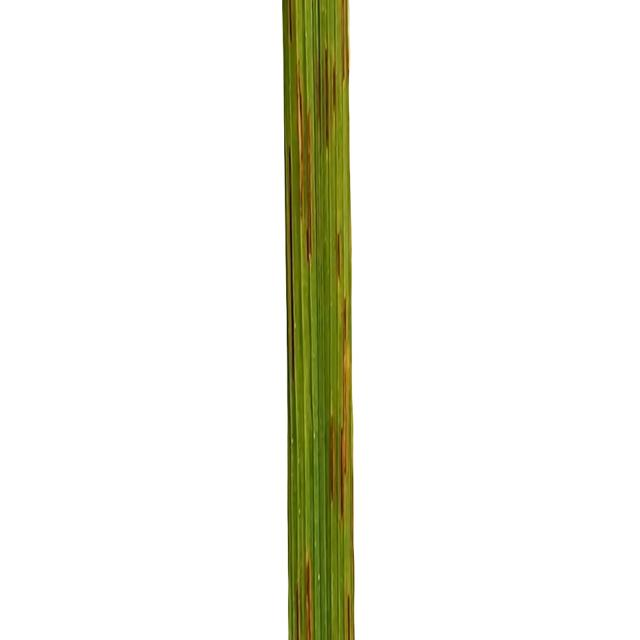Narrow brown: (252, 0, 539, 630)
